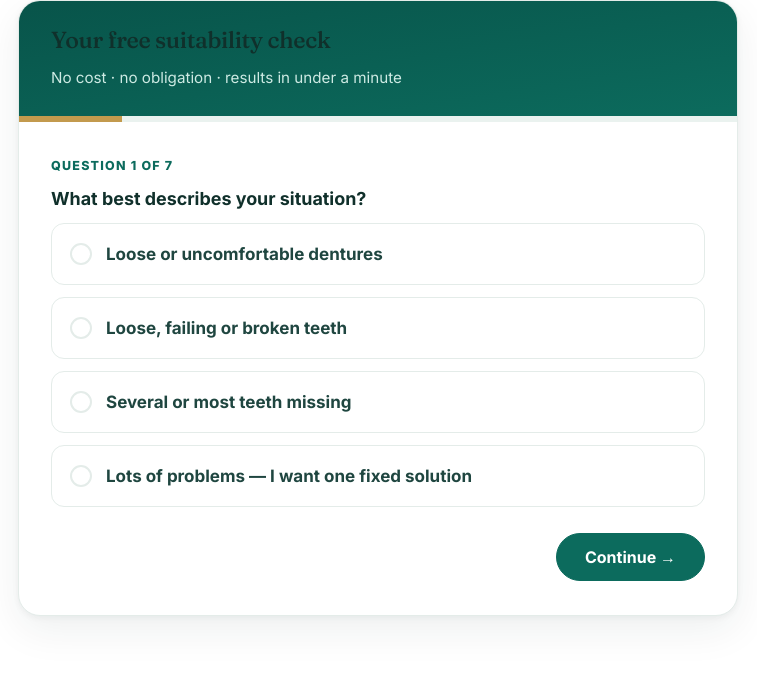
Test case: SuitabilityQuiz › blocks advancing without a selection (guard)
Click the button "Continue →": [630, 557] box left=556, top=533, right=705, bottom=581
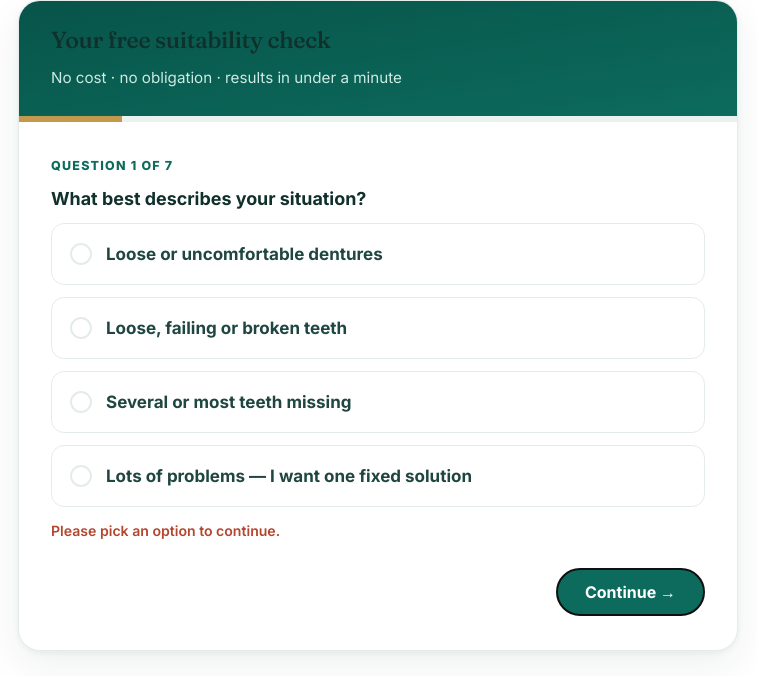
Check: the text "Question 1 of 7" is shown, box left=51, top=158, right=173, bottom=173
Check: the text "Please pick an option to continue." is shown, box left=51, top=522, right=280, bottom=539
